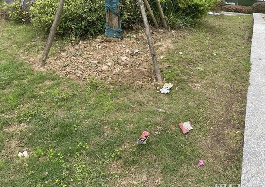garbage: (174, 118, 194, 135), (158, 77, 175, 94), (136, 128, 149, 144), (194, 158, 206, 167)
